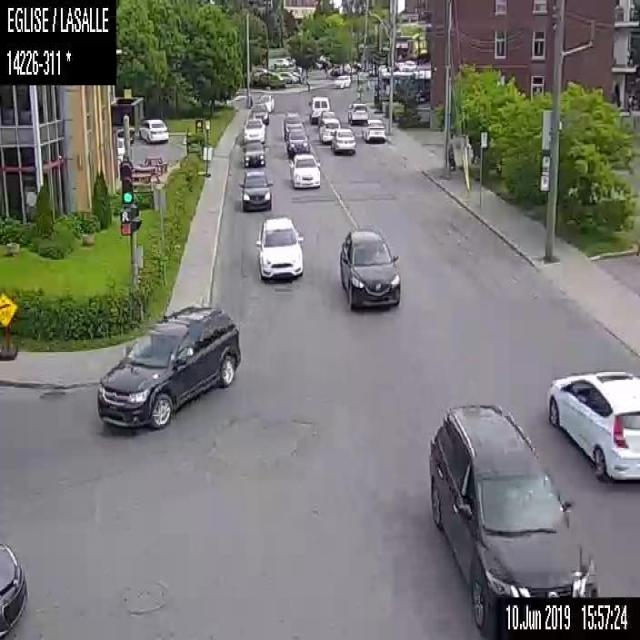vehicle: (424, 402, 601, 638), (95, 300, 240, 427), (546, 368, 639, 481), (338, 225, 399, 307), (252, 213, 304, 280), (0, 541, 28, 639), (237, 170, 273, 209), (292, 151, 320, 187), (139, 115, 168, 142), (242, 140, 266, 168), (285, 129, 308, 157), (307, 93, 329, 122), (332, 127, 356, 153), (242, 117, 266, 142), (318, 117, 340, 141), (248, 100, 270, 124), (363, 118, 384, 139), (347, 100, 367, 122), (283, 111, 303, 128), (257, 92, 274, 111), (332, 74, 350, 89), (276, 70, 298, 82), (270, 56, 290, 66)
